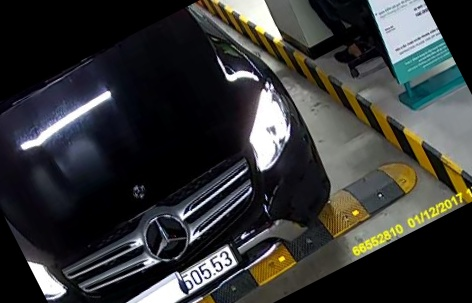plate: (151, 245, 261, 299)
